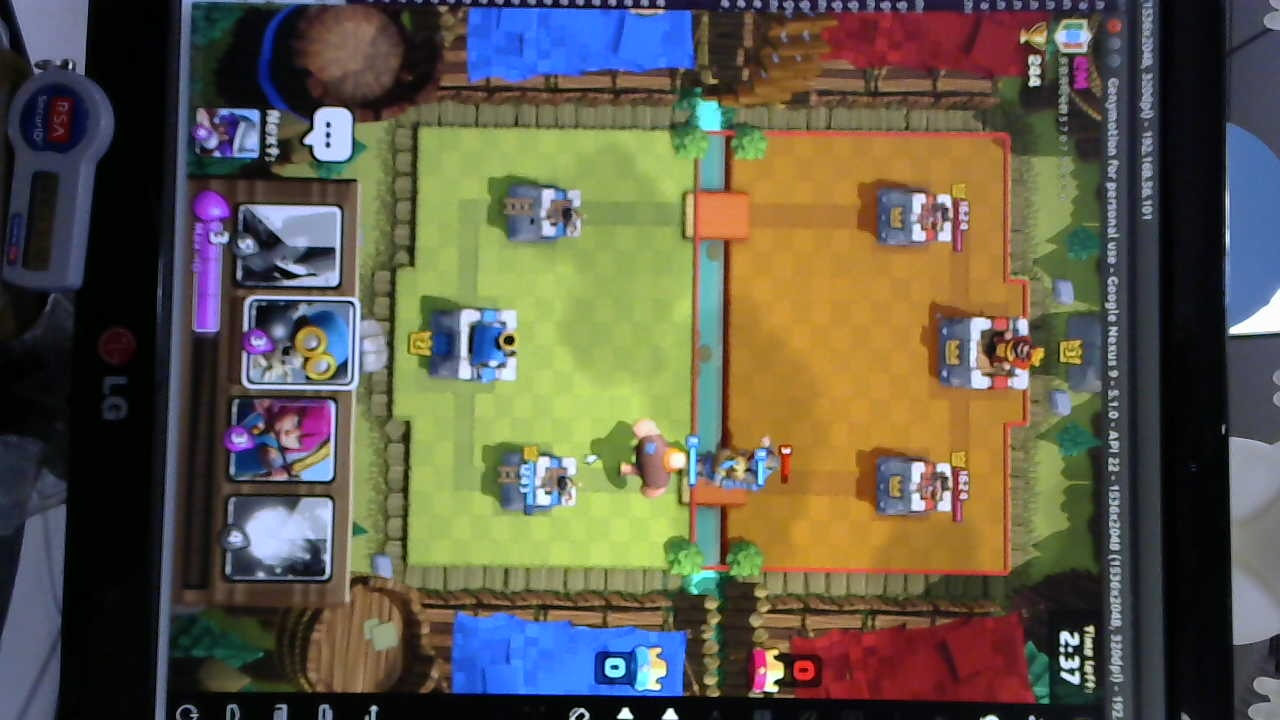arena: (504, 179, 588, 246), (499, 447, 584, 513)
earena: (874, 451, 956, 522), (875, 187, 953, 247)
eking: (939, 316, 1039, 395)
giant: (622, 412, 685, 500)
king: (428, 302, 523, 387)
knight: (743, 436, 782, 496)
prince: (700, 448, 760, 492)
